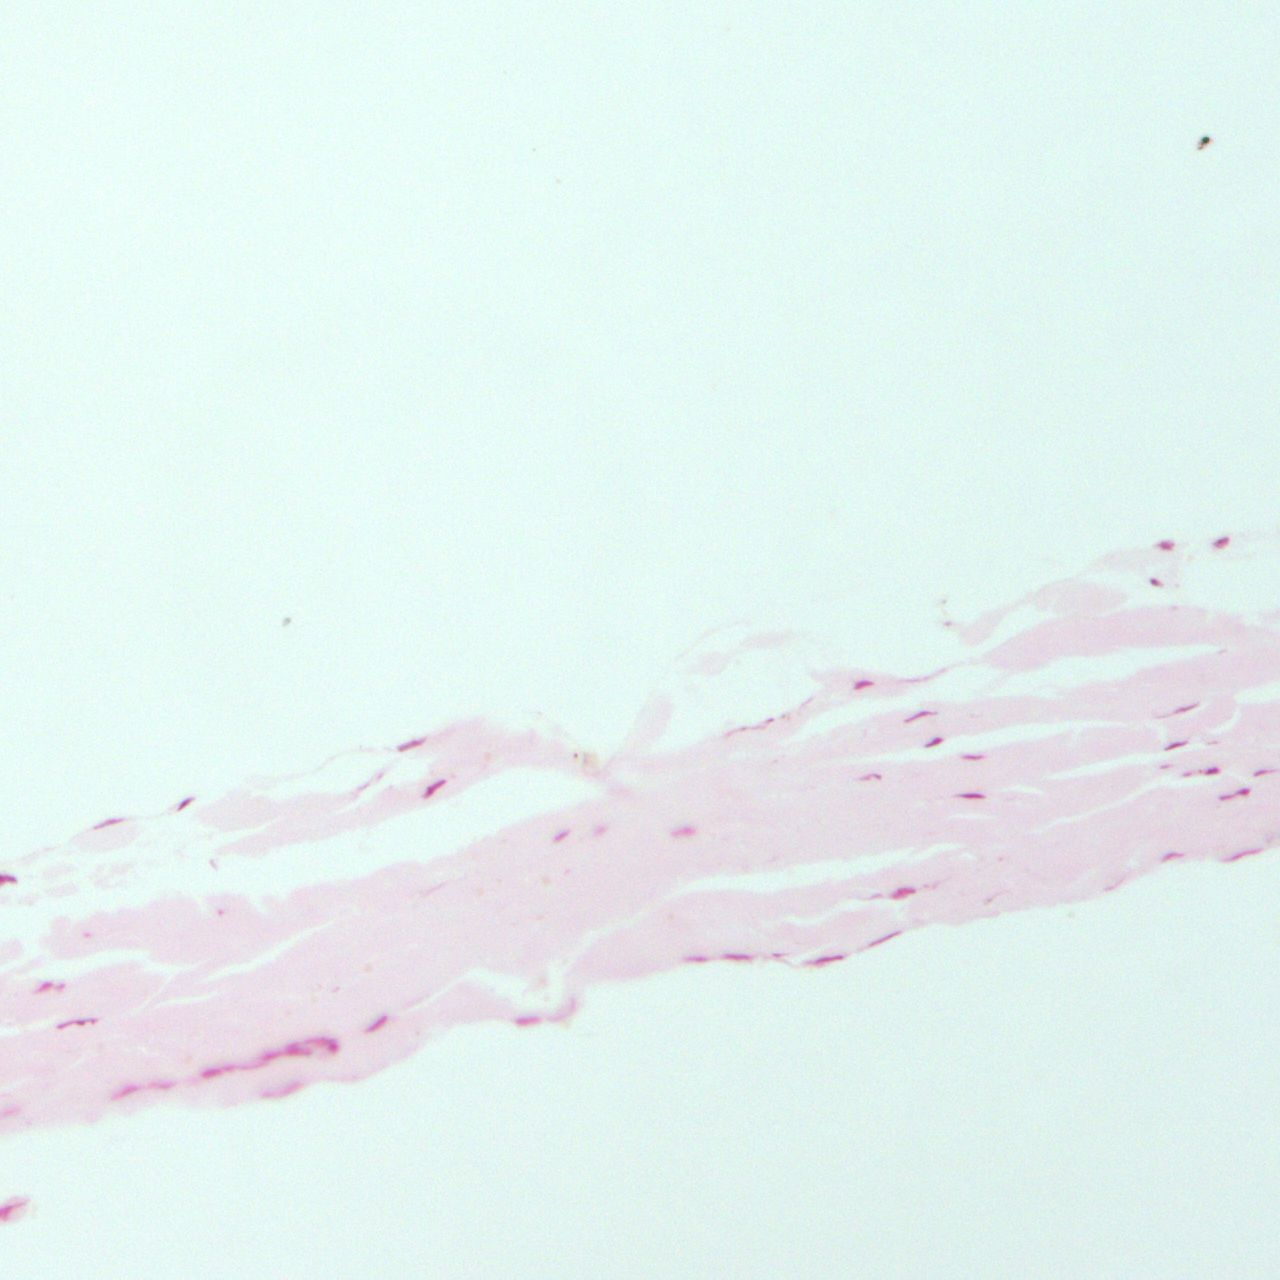dust: (1197, 136, 1211, 149)
nucleus-AC: (260, 1078, 305, 1103), (394, 729, 430, 758), (417, 775, 452, 802), (1223, 844, 1262, 867), (52, 1015, 102, 1033), (108, 1080, 141, 1107), (91, 811, 127, 835), (248, 1046, 280, 1071), (361, 1012, 392, 1037), (867, 927, 903, 949), (903, 704, 937, 726), (1167, 697, 1201, 719), (1218, 785, 1252, 806), (197, 1061, 229, 1082), (172, 790, 200, 812), (919, 733, 947, 753), (549, 825, 574, 846), (1157, 847, 1185, 865), (1208, 533, 1232, 553), (311, 1035, 338, 1051), (282, 1041, 309, 1056), (888, 885, 915, 900), (721, 952, 755, 962), (1164, 737, 1187, 753), (1251, 765, 1276, 778), (669, 825, 697, 837), (143, 1082, 177, 1091), (813, 954, 845, 964), (515, 1016, 542, 1026), (955, 791, 986, 799), (35, 981, 56, 993), (1157, 538, 1175, 552), (850, 681, 876, 689), (961, 753, 985, 761), (859, 772, 881, 781), (683, 955, 709, 962), (1148, 578, 1165, 587), (1203, 765, 1220, 775), (215, 907, 226, 918), (56, 980, 64, 993), (1182, 771, 1194, 778), (80, 933, 91, 940), (1157, 765, 1173, 769)
